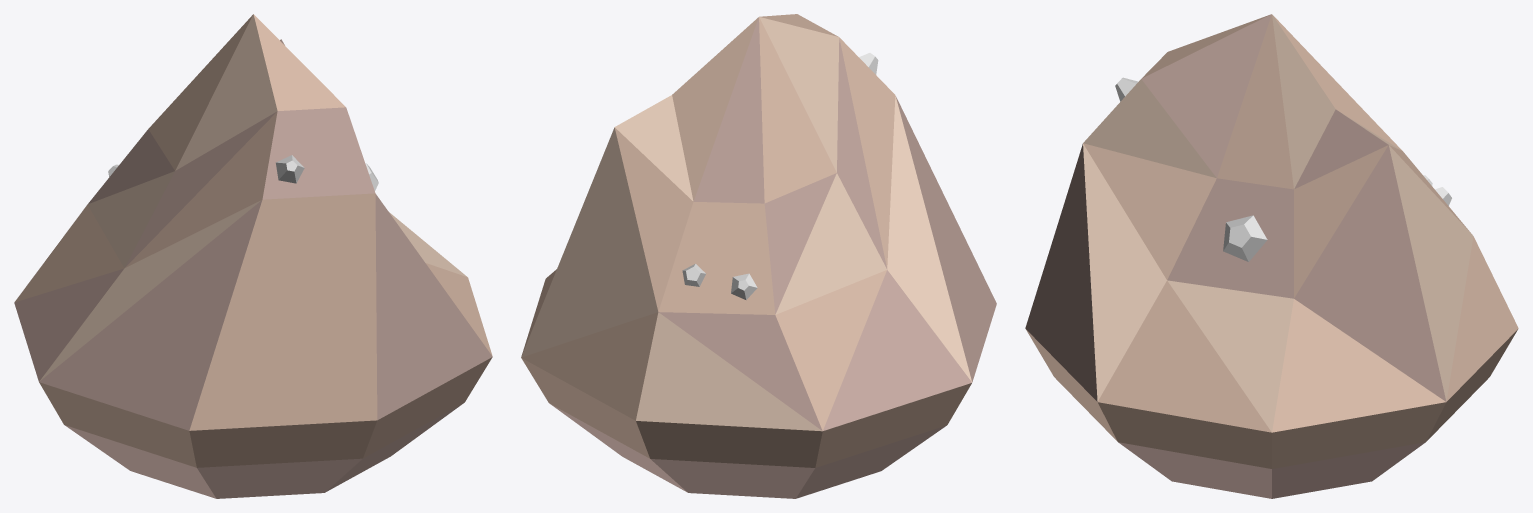
The model's file is Dirt.fbx.
3 views of the same model, side by side, from view 1: azimuth 30°, elevation 25°; view 2: azimuth 150°, elevation 25°; view 3: azimuth 270°, elevation 25° (orthographic).
Parts seen in each view (by area): view 1: Dirt; view 2: Dirt; view 3: Dirt.
Part boxes in pixels (bbox=[...]): Dirt: bbox=[14, 14, 492, 498]; Dirt: bbox=[521, 14, 996, 498]; Dirt: bbox=[1025, 14, 1518, 498].
Bounding box in the file's own units: 0.1296 × 0.1232 × 0.1296.
